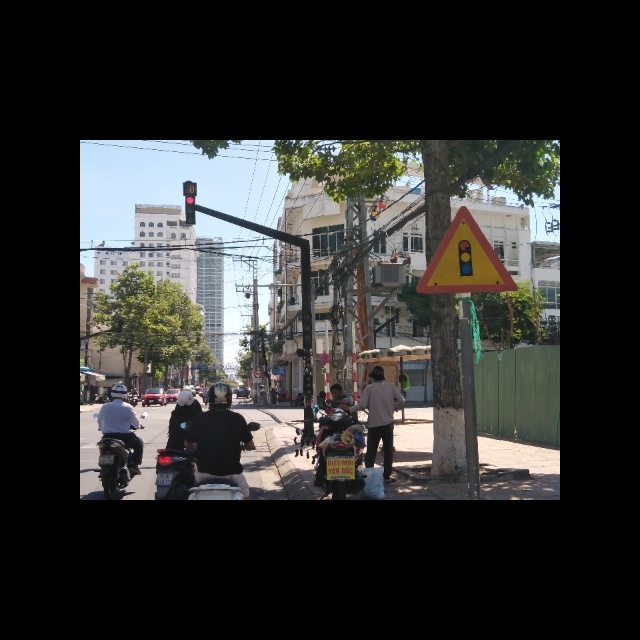Giao nhau có tín hiệu đèn: (412, 205, 516, 293)
